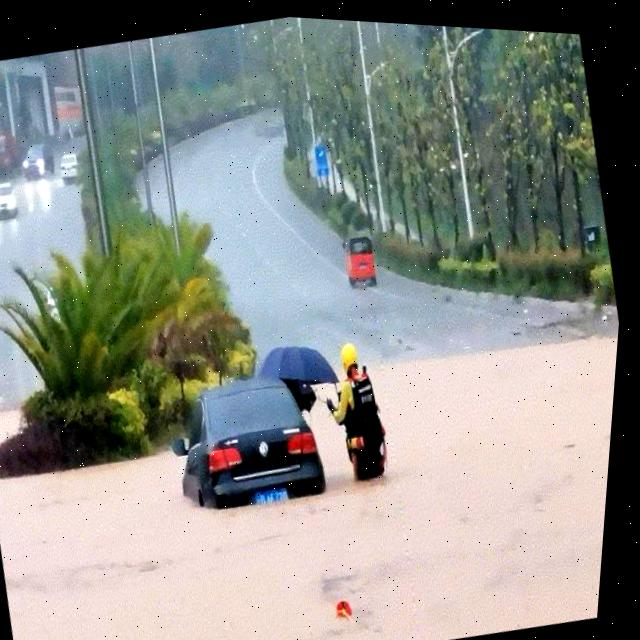rescuer: (298, 330, 413, 503)
